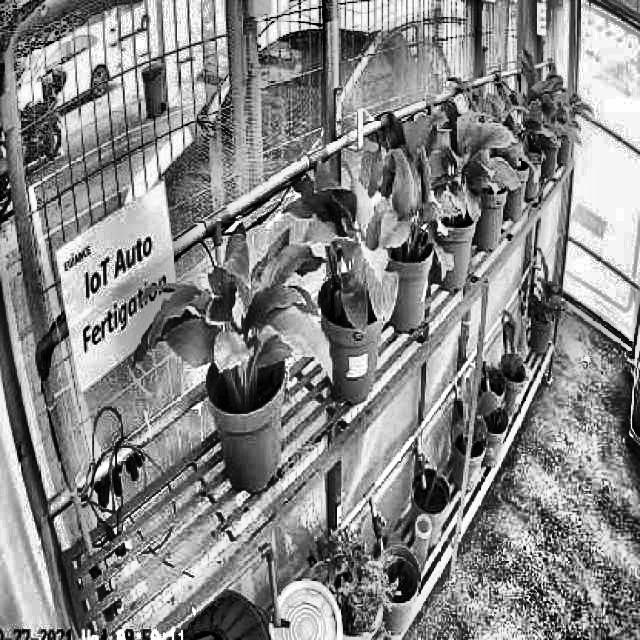plants: (134, 218, 334, 404), (362, 106, 456, 288), (297, 166, 400, 332), (420, 99, 518, 218)
